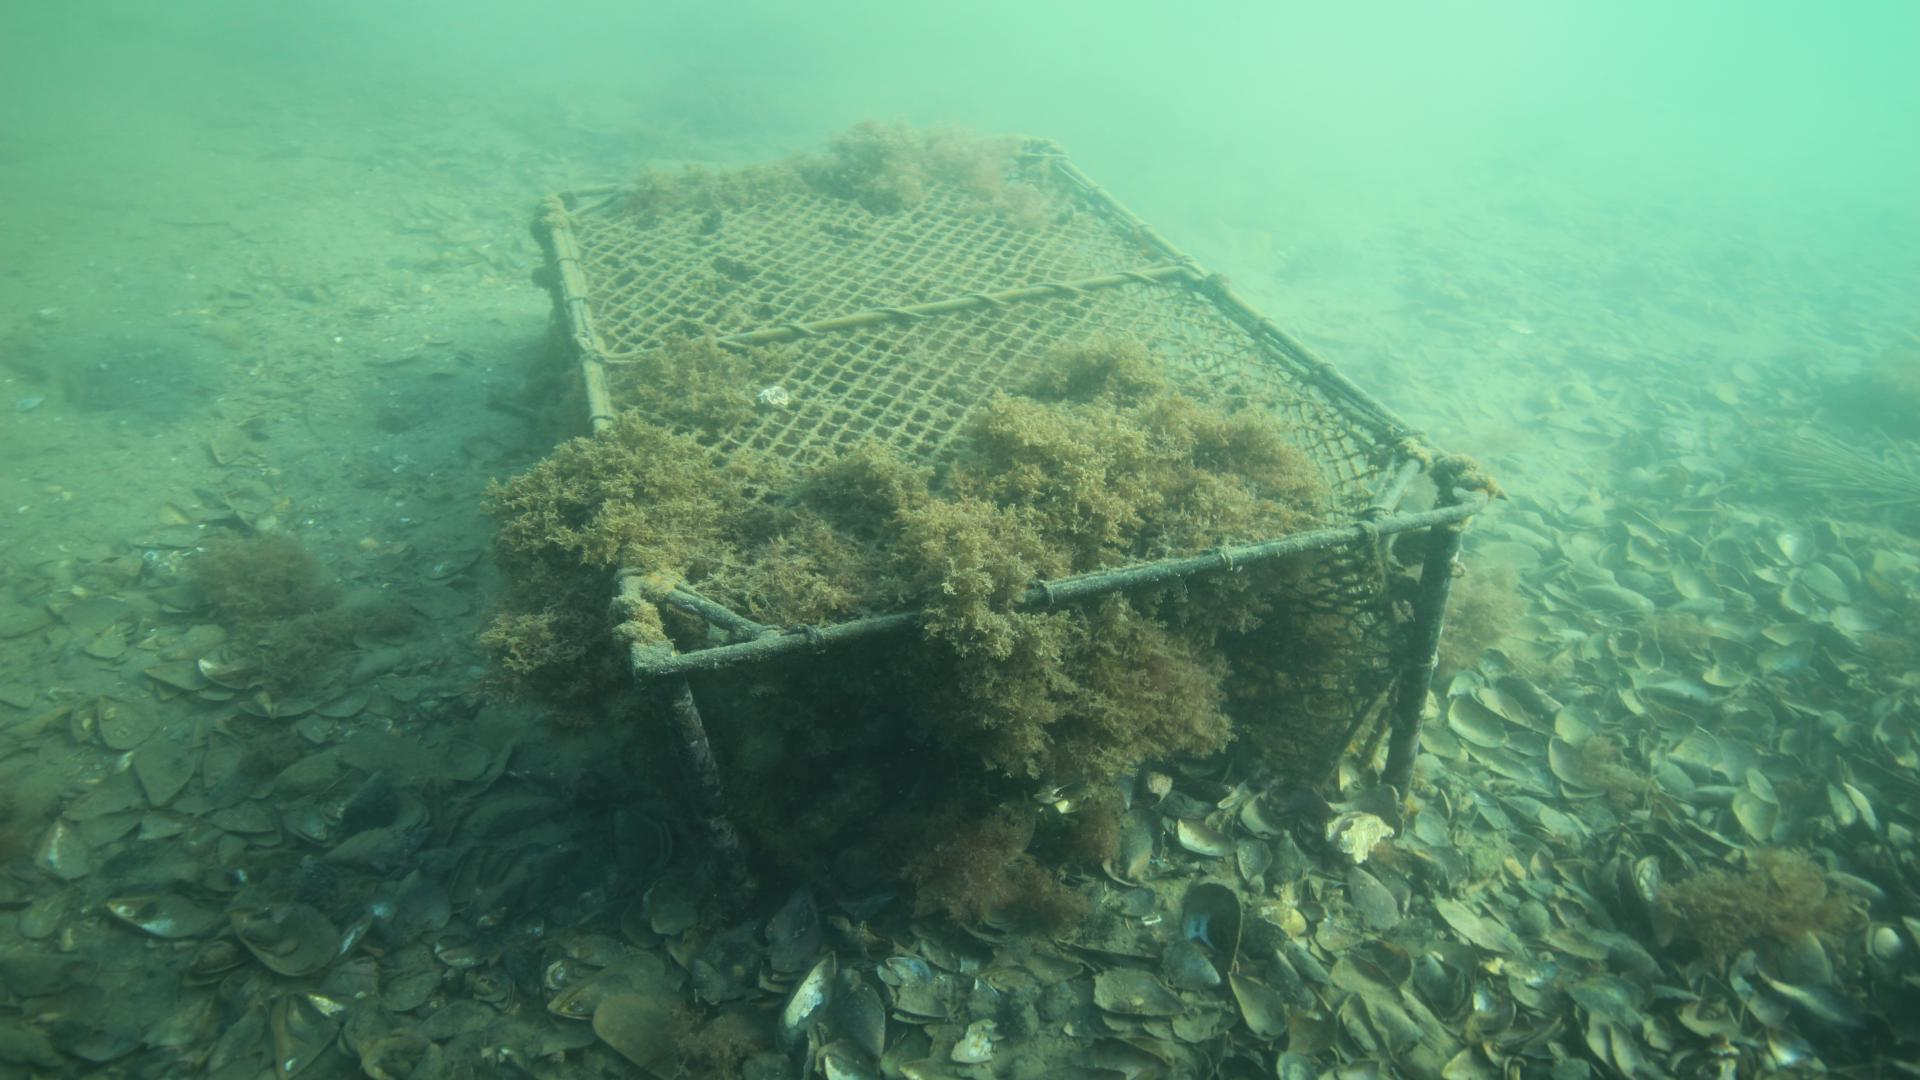rectangular fish trap: (539, 133, 1493, 907)
